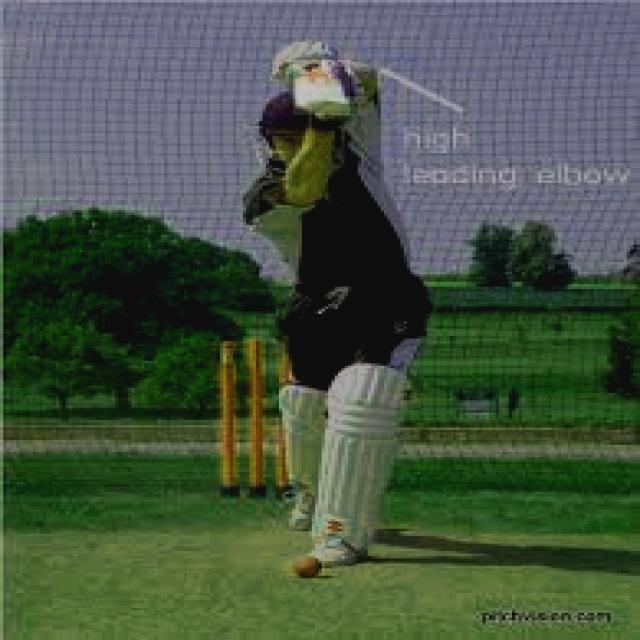bat: (290, 70, 353, 121)
toe: (301, 98, 352, 120)
